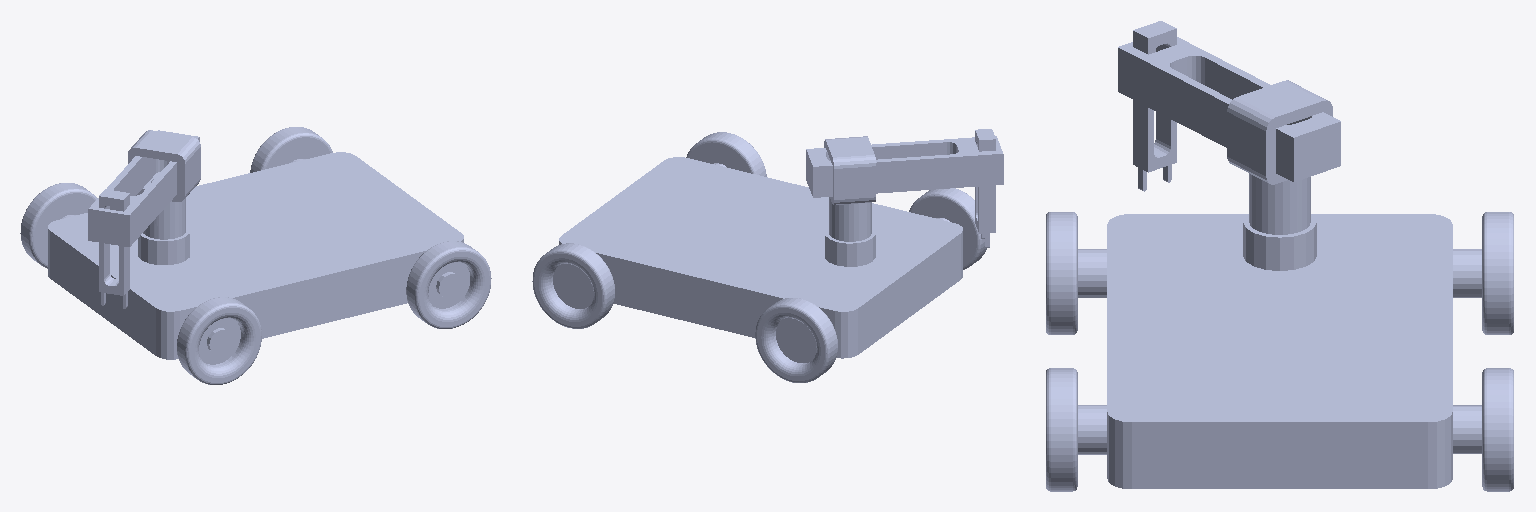
robot.urdf — steering_robot:
<?xml version="1.0" encoding="utf-8"?>

<robot name="steering_robot">
  
  <link name="base_link">
    <inertial>
      <origin
        xyz="0.0835007564116653 0.111116214887999 0.154680413278001"
        rpy="0 0 0" />
      <mass
        value="0.851974278937707" />
      <inertia
        ixx="0.00149508708397235"
        ixy="4.35705438711245E-06"
        ixz="-5.54791034727809E-08"
        iyy="0.00428150675878893"
        iyz="2.08046638022881E-08"
        izz="0.00291574075983561" />
    </inertial>
    <visual>
      <origin
        xyz="0 0 0"
        rpy="0 0 0" />
      <geometry>
        <mesh
          filename="package://basheer_robotic/meshes/base_link.STL" />
      </geometry>
      <material
        name="">
        <color
          rgba="0.792156862745098 0.819607843137255 0.933333333333333 1" />
      </material>
    </visual>
    <collision>
      <origin
        xyz="0.0835007564116653 0.111116214887999 0.154680413278001"
        rpy="0 0 0" />
      <geometry>
        <mesh
          filename="package://basheer_robotic/meshes/base_link.STL" />
      </geometry>
    </collision>
  </link>


  


     <link
    name="back_r_wheel">
    <inertial>
      <origin
        xyz="0 0.0166799747464916 0"
        rpy="0 0 0" />
      <mass
        value="0.0207117601652322" />
      <inertia
        ixx="4.0602516755113E-06"
        ixy="2.68303836678956E-25"
        ixz="-1.05879118406788E-22"
        iyy="7.16701569481282E-06"
        iyz="1.31395450284817E-22"
        izz="4.0602516755113E-06" />
    </inertial>
    <visual>
      <origin
        xyz="0 0 0"
        rpy="0 0 0" />
      <geometry>
        <mesh
          filename="package://basheer_robotic/meshes/back_r_wheel.STL" />
      </geometry>
      <material
        name="">
        <color
          rgba="0.792156862745098 0.819607843137255 0.933333333333333 1" />
      </material>
    </visual>
    <collision>
      <origin
        xyz="0 0.0166799747464916 0"
        rpy="0 0 0" />
      <geometry>
        <mesh
          filename="package://basheer_robotic/meshes/back_r_wheel.STL" />
      </geometry>
    </collision>
  </link>

  
  <joint
    name="back_j1"
    type="continuous">
    <origin
      xyz="0.15873 -0.2244 0.11103"
      rpy="0 -0.13321 3.1416" />
    <parent
      link="base_link" />
    <child
      link="back_r_wheel" />
    <axis
      xyz="0 1 0" />
    <limit
      lower="2"
      upper="3"
      effort="100"
      velocity="100" />
  </joint>

  <link
    name="back_l_wheel">
    <inertial>
      <origin
        xyz="0 -0.0083200252535084 -1.38777878078145E-17"
        rpy="0 0 0" />
      <mass
        value="0.0207117601652322" />
      <inertia
        ixx="4.0602516755113E-06"
        ixy="-7.6204920748995E-23"
        ixz="-5.29395592033938E-22"
        iyy="7.16701569481283E-06"
        iyz="-1.38876992391939E-23"
        izz="4.06025167551131E-06" />
    </inertial>
    <visual>
      <origin
        xyz="0 0 0"
        rpy="0 0 0" />
      <geometry>
        <mesh
          filename="package://basheer_robotic/meshes/back_l_wheel.STL" />
      </geometry>
      <material
        name="">
        <color
          rgba="0.792156862745098 0.819607843137255 0.933333333333333 1" />
      </material>
    </visual>
    <collision>
      <origin
        xyz="0.15873 -0.2244 0.11103"
        rpy="0 0 0" />
      <geometry>
        <mesh
          filename="package://basheer_robotic/meshes/back_l_wheel.STL" />
      </geometry>
    </collision>
  </link>
  <joint
    name="back_j2"
    type="continuous">
    <origin
      xyz="0.15873 -0.059395 0.11103"
      rpy="0 -0.5263 0" />
    <parent
      link="base_link" />
    <child
      link="back_l_wheel" />
    <axis
      xyz="0 1 0" />
    <limit
      lower="1"
      upper="2"
      effort="100"
      velocity="100" />
  </joint>

   <link
    name="front_r_wheel">
    <inertial>
      <origin

        xyz="0 0.0166799747464916 0"
        rpy="0 0 0" />
      <mass
        value="0.0207117601652322" />
      <inertia

        ixx="4.0602516755113E-06"
        ixy="7.87852754587752E-24"
        ixz="0"
        iyy="7.16701569481282E-06"
        iyz="1.38319716915357E-22"

        izz="4.0602516755113E-06" />
    </inertial>
    <visual>
      <origin
        xyz="0 0 0"

        rpy="0 0 0" />
      <geometry>
        <mesh
          filename="package://basheer_robotic/meshes/front_r_wheel.STL" />
      </geometry>
      <material

        name="">
        <color
          rgba="0.792156862745098 0.819607843137255 0.933333333333333 1" />
      </material>
    </visual>
    <collision>
      <origin
        xyz="0 0.0166799747464916 0"
        rpy="0 0 0" />
      <geometry>
        <mesh
          filename="package://basheer_robotic/meshes/front_r_wheel.STL" />
      </geometry>
    </collision>
  </link>
  <joint

    name="front_j1"
    type="continuous">
    <origin
      xyz="0.0087289 -0.2244 0.11103"
      rpy="0 -0.13321 3.1416" />
    <parent
      link="base_link" />
    <child
      link="front_r_wheel" />
    <axis

      xyz="0 1 0" />
    <limit
      lower="1"
      upper="3"
      effort="100"

      velocity="100" />
  </joint>
  <link
    name="front_l_wheel">
    <inertial>
      <origin

        xyz="0 -0.00832002525350839 -1.38777878078145E-17"
        rpy="0 0 0" />
      <mass
        value="0.0207117601652322" />
      <inertia
        ixx="4.06025167551131E-06"

        ixy="1.08420834052082E-23"
        ixz="0"
        iyy="7.16701569481283E-06"
        iyz="1.42854768282932E-22"
        izz="4.06025167551131E-06" />
    </inertial>
    <visual>
      <origin
        xyz="0 0 0"
        rpy="0 0 0" />
      <geometry>
        <mesh
          filename="package://basheer_robotic/meshes/front_l_wheel.STL" />
      </geometry>
      <material
        name="">
        <color
          rgba="0.792156862745098 0.819607843137255 0.933333333333333 1" />
      </material>
    </visual>
    <collision>
      <origin
        xyz="0 -0.00832002525350839 -1.38777878078145E-17"
        rpy="0 0 0" />
      <geometry>
        <mesh
          filename="package://basheer_robotic/meshes/front_l_wheel.STL" />
      </geometry>
    </collision>
  </link>
  <joint
    name="front_j2"
    type="continuous">
    <origin
      xyz="0.0087289 -0.059395 0.11103"
      rpy="0 -0.5263 0" />
    <parent
      link="base_link" />
    <child
      link="front_l_wheel" />
    <axis
      xyz="0 1 0000000000000000000" />
    <limit
      lower="1"
      upper="3"
      effort="100"
      velocity="100" />
  </joint>




  <link
    name="first_link">
    <inertial>
      <origin
        xyz="-1.38777878078145E-17 0.0377774235989086 2.77555756156289E-17"
        rpy="0 0 0" />
      <mass
        value="0.0248962930890307" />
      <inertia
        ixx="1.35322939220135E-05"
        ixy="6.73502996199609E-22"
        ixz="4.2351647362715E-22"
        iyy="3.88270144541784E-06"
        iyz="1.1165181915409E-21"
        izz="1.23363246373257E-05" />
    </inertial>
    <visual>
      <origin
        xyz="0 0 0"
        rpy="0 0 0" />
      <geometry>
        <mesh
          filename="package://basheer_robotic/meshes/first_link.STL" />
      </geometry>
      <material
        name="">
        <color
          rgba="0.792156862745098 0.819607843137255 0.933333333333333 1" />
      </material>
    </visual>
    <collision>
      <origin
        xyz="-1.38777878078145E-17 0.0377774235989086 2.77555756156289E-17"
        rpy="0 0 0" />
      <geometry>
        <mesh
          filename="package://basheer_robotic/meshes/first_link.STL" />
      </geometry>
    </collision>
  </link>
  <joint
    name="rev1"
    type="continuous">
    <origin
      xyz="0.023729 -0.1544 0.12603"
      rpy="1.5708 0 0.6868" />
    <parent
      link="base_link" />
    <child
      link="first_link" />
    <axis
      xyz="0 1 0" />
    <limit
      lower="0.5"
      upper="2"
      effort="0"
      velocity="0" />
  </joint>
  <link
    name="second_link">
    <inertial>
      <origin
        xyz="0 0.034105335144052 -5.55111512312578E-17"
        rpy="0 0 0" />
      <mass
        value="0.0273292036732051" />
      <inertia
        ixx="3.92376721402455E-05"
        ixy="1.41878018665095E-20"
        ixz="1.48758176130202E-21"
        iyy="3.1735887237278E-06"
        iyz="1.56765439248972E-20"
        izz="4.05893139524263E-05" />
    </inertial>
    <visual>
      <origin
        xyz="0 0 0"
        rpy="0 0 0" />
      <geometry>
        <mesh
          filename="package://basheer_robotic/meshes/second_link.STL" />
      </geometry>
      <material
        name="">
        <color
          rgba="0.792156862745098 0.819607843137255 0.933333333333333 1" />
      </material>
    </visual>
    <collision>
      <origin
        xyz="0 0.034105335144052 -5.55111512312578E-17"
        rpy="0 0 0" />
      <geometry>
        <mesh
          filename="package://basheer_robotic/meshes/second_link.STL" />
      </geometry>
    </collision>
  </link>
  <joint
    name="presm1"
    type="prismatic">
    <origin
      xyz="0 0.055 0"
      rpy="-1.5708 1.5708 0" />
    <parent
      link="first_link" />
    <child
      link="second_link" />
    <axis
      xyz="0 1 0" />
    <limit
      lower="-0.06"
      upper="0.06"
      effort="0"
      velocity="0" />
  </joint>
  <link
    name="third_link">
    <inertial>
      <origin
        xyz="0 0.0138331430446322 0"
        rpy="0 0 0" />
      <mass
        value="0.0047289690501573" />
      <inertia
        ixx="2.01679937765819E-06"
        ixy="2.42310026388755E-22"
        ixz="1.05879118406788E-22"
        iyy="1.83158443866074E-07"
        iyz="8.75807343062413E-22"
        izz="2.12344264192118E-06" />
    </inertial>
    <visual>
      <origin
        xyz="0 0 0"
        rpy="0 0 0" />
      <geometry>
        <mesh
          filename="package://basheer_robotic/meshes/third_link.STL" />
      </geometry>
      <material
        name="">
        <color
          rgba="0.792156862745098 0.819607843137255 0.933333333333333 1" />
      </material>
    </visual>
    <collision>
      <origin
        xyz="0 0.0138331430446322 0"
        rpy="0 0 0" />
      <geometry>
        <mesh
          filename="package://basheer_robotic/meshes/third_link.STL" />
      </geometry>
    </collision>
  </link>
  <joint
    name="presm2"
    type="prismatic">
    <origin
      xyz="0 0.079983 0"
      rpy="-1.5708 0 0" />
    <parent
      link="second_link" />
    <child
      link="third_link" />
    <axis
      xyz="0 1 0" />
    <limit
      lower="-0.06"
      upper="0.06"
      effort="0"
      velocity="0" />
  </joint>




     <transmission name="tran0">
	<type>transmission_interface/SimpleTransmission</type>
	<joint name="back_j1">
	<hardwareInterface>PositionJointInterface</hardwareInterface>
	</joint>
	<actuator name="motor0">
	<hardwareInterface>PositionJointInterface</hardwareInterface>
	<mechanicalReduction>1</mechanicalReduction>
	</actuator>
     </transmission>

     <transmission name="tran1">
	<type>transmission_interface/SimpleTransmission</type>
	<joint name="back_j2">
	<hardwareInterface>PositionJointInterface</hardwareInterface>
	</joint>
	<actuator name="motor1">
	<hardwareInterface>PositionJointInterface</hardwareInterface>
	<mechanicalReduction>1</mechanicalReduction>
	</actuator>
     </transmission>

     <transmission name="tran2">
	<type>transmission_interface/SimpleTransmission</type>
	<joint name="front_j1">
	<hardwareInterface>PositionJointInterface</hardwareInterface>
	</joint>
	<actuator name="motor2">
	<hardwareInterface>PositionJointInterface</hardwareInterface>
	<mechanicalReduction>1</mechanicalReduction>
	</actuator>
     </transmission>
    
     <transmission name="tran3">
	<type>transmission_interface/SimpleTransmission</type>
	<joint name="front_j2">
	<hardwareInterface>PositionJointInterface</hardwareInterface>
	</joint>
	<actuator name="motor3">
	<hardwareInterface>PositionJointInterface</hardwareInterface>
	<mechanicalReduction>1</mechanicalReduction>
	</actuator>
     </transmission>

     <transmission name="tran4">
	<type>transmission_interface/SimpleTransmission</type>
	<joint name="rev1">
	<hardwareInterface>PositionJointInterface</hardwareInterface>
	</joint>
	<actuator name="motor4">
	<hardwareInterface>PositionJointInterface</hardwareInterface>
	<mechanicalReduction>1</mechanicalReduction>
	</actuator>
     </transmission>
      
     <transmission name="tran5">
	<type>transmission_interface/SimpleTransmission</type>
	<joint name="presm1">
	<hardwareInterface>PositionJointInterface</hardwareInterface>
	</joint>
	<actuator name="motor5">
	<hardwareInterface>PositionJointInterface</hardwareInterface>
	<mechanicalReduction>1</mechanicalReduction>
	</actuator>
     </transmission>

     <transmission name="tran5">
	<type>transmission_interface/SimpleTransmission</type>
	<joint name="prem2">
	<hardwareInterface>PositionJointInterface</hardwareInterface>
	</joint>
	<actuator name="motor5">
	<hardwareInterface>PositionJointInterface</hardwareInterface>
	<mechanicalReduction>1</mechanicalReduction>
	</actuator>
     </transmission>
     

      <gazebo>
	<plugin name="control" filename="libgazebo_ros_control.so"/>
	<plugin name="joint_state_publisher" filename="libgazebo_ros_joint_state_publisher.so">
	<jointName>rev1,presm1,presm2</jointName>
	</plugin>
        <plugin name="differential_drive_controller" filename="libgazebo_ros_diff_drive.so">
                  <leftJoint>back_j1,front_j1</leftJoint>
                   <rightJoint>back_j2,front_j2</rightJoint>
                   <robotBaseFrame>base_link</robotBaseFrame>
                  <wheelSeparation>0.25</wheelSeparation>
                  <wheelDiameter>0.07</wheelDiameter>
                  <publishWheelJointState>true</publishWheelJointState>
            </plugin>
      </gazebo>








</robot>

--- What the picture shows (computed from the rendered views, not written in the file) ---
The picture shows the robot from 3 angles, left to right: view 1: azimuth 30°, elevation 25°; view 2: azimuth 150°, elevation 25°; view 3: azimuth 270°, elevation 25°; orthographic projection.
Model steering_robot with 8 links and 7 joints (5 continuous, 2 prismatic), rooted at base_link, posed all joints at 0.
Links seen in each view (by area): view 1: base_link, back_r_wheel, front_r_wheel, second_link, first_link, front_l_wheel, back_l_wheel, third_link; view 2: base_link, second_link, front_l_wheel, back_l_wheel, first_link, front_r_wheel, back_r_wheel, third_link; view 3: base_link, second_link, first_link, back_r_wheel, back_l_wheel, front_r_wheel, front_l_wheel, third_link.
Boxes of the visible links, x1,y1,x2,y2 form: base_link: [48, 152, 463, 359]; back_r_wheel: [406, 241, 491, 328]; front_r_wheel: [177, 297, 261, 384]; second_link: [88, 130, 199, 246]; first_link: [128, 130, 200, 239]; front_l_wheel: [20, 183, 97, 268]; back_l_wheel: [250, 127, 332, 172]; third_link: [99, 189, 129, 308]; base_link: [559, 157, 962, 358]; second_link: [806, 136, 1003, 197]; front_l_wheel: [755, 298, 837, 382]; back_l_wheel: [532, 243, 614, 328]; first_link: [824, 136, 875, 241]; front_r_wheel: [909, 188, 986, 269]; back_r_wheel: [686, 132, 766, 176]; third_link: [975, 129, 995, 247]; base_link: [1107, 214, 1452, 488]; second_link: [1118, 37, 1340, 181]; first_link: [1227, 80, 1332, 234]; back_r_wheel: [1046, 368, 1106, 491]; back_l_wheel: [1453, 368, 1513, 491]; front_r_wheel: [1046, 212, 1106, 334]; front_l_wheel: [1453, 212, 1513, 334]; third_link: [1133, 21, 1176, 191].
Bounding box of the posed robot: 0.2363 × 0.19 × 0.1123 m (x, y, z).
Meshes: 8 distinct files referenced, 8 mesh visuals loaded (8 binary STL).
